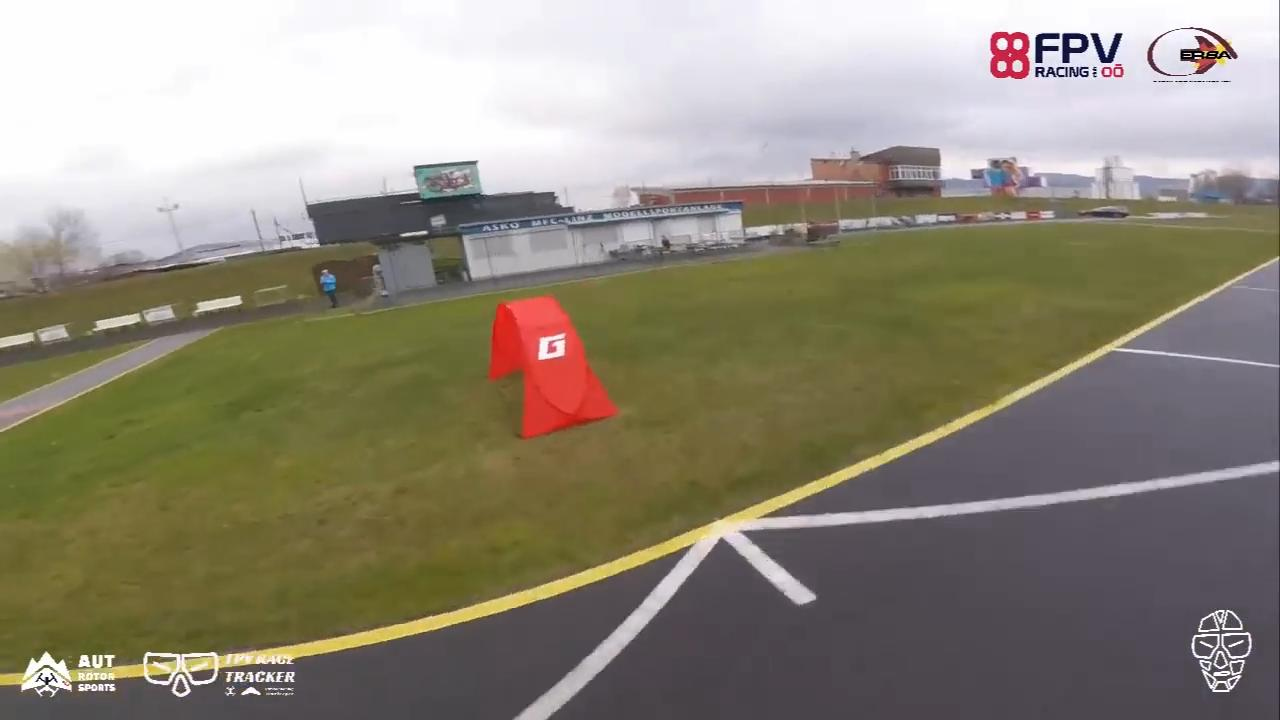gate: (484, 295, 617, 441)
